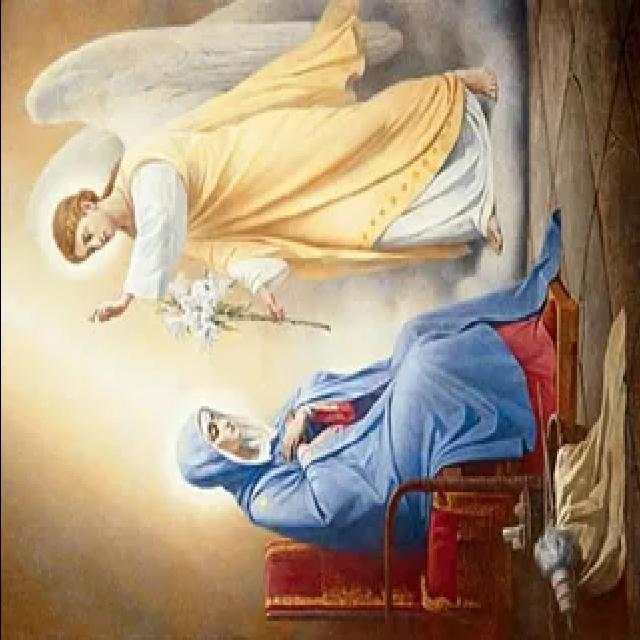mother of god: (171, 316, 554, 564)
